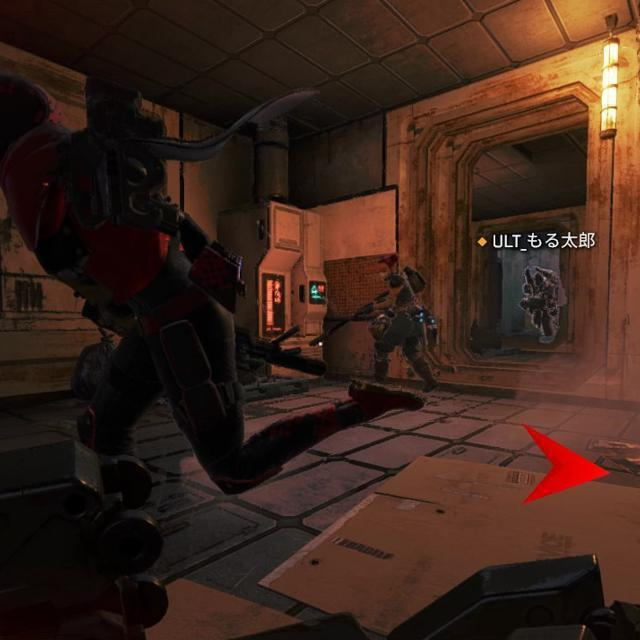avatar: (0, 64, 248, 510), (366, 255, 439, 392), (519, 268, 562, 341)
